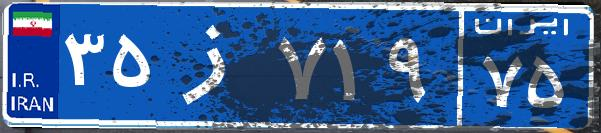1: (330, 28, 385, 110)
3: (57, 26, 110, 107)
5: (110, 28, 158, 105), (525, 38, 570, 115)
7: (273, 28, 330, 110), (475, 38, 525, 113)
9: (385, 28, 445, 110)
ز: (158, 15, 273, 115)
